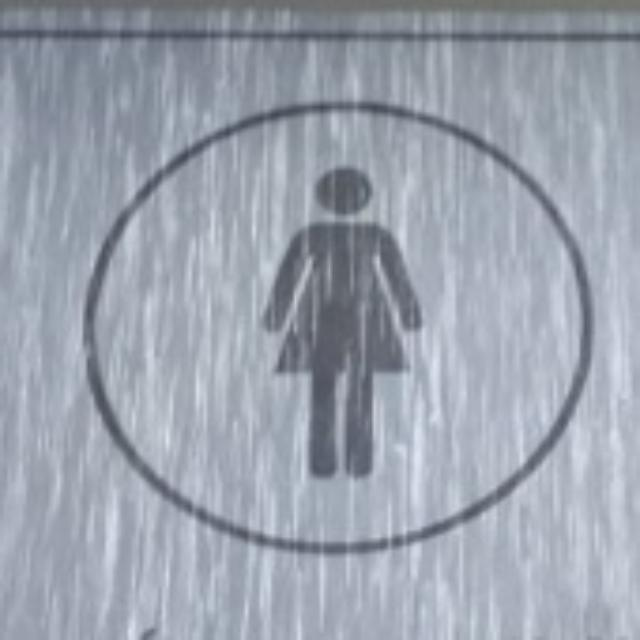womens_restroom: (87, 102, 591, 550)
